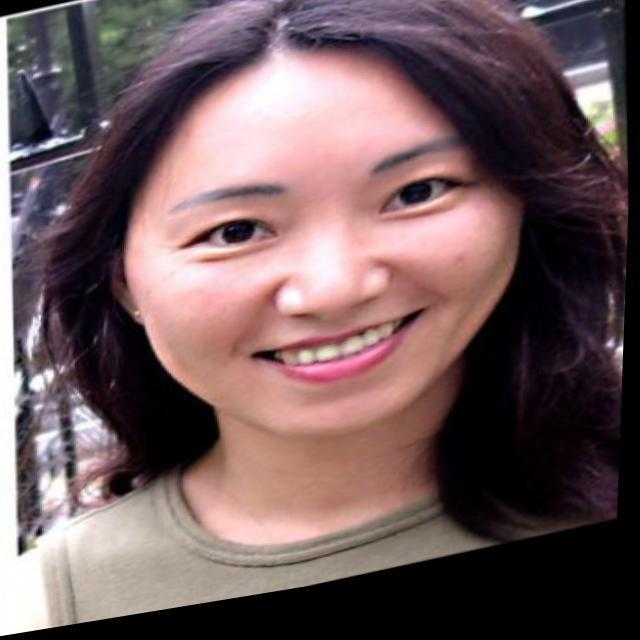Nonhelmet: (95, 20, 547, 456)
